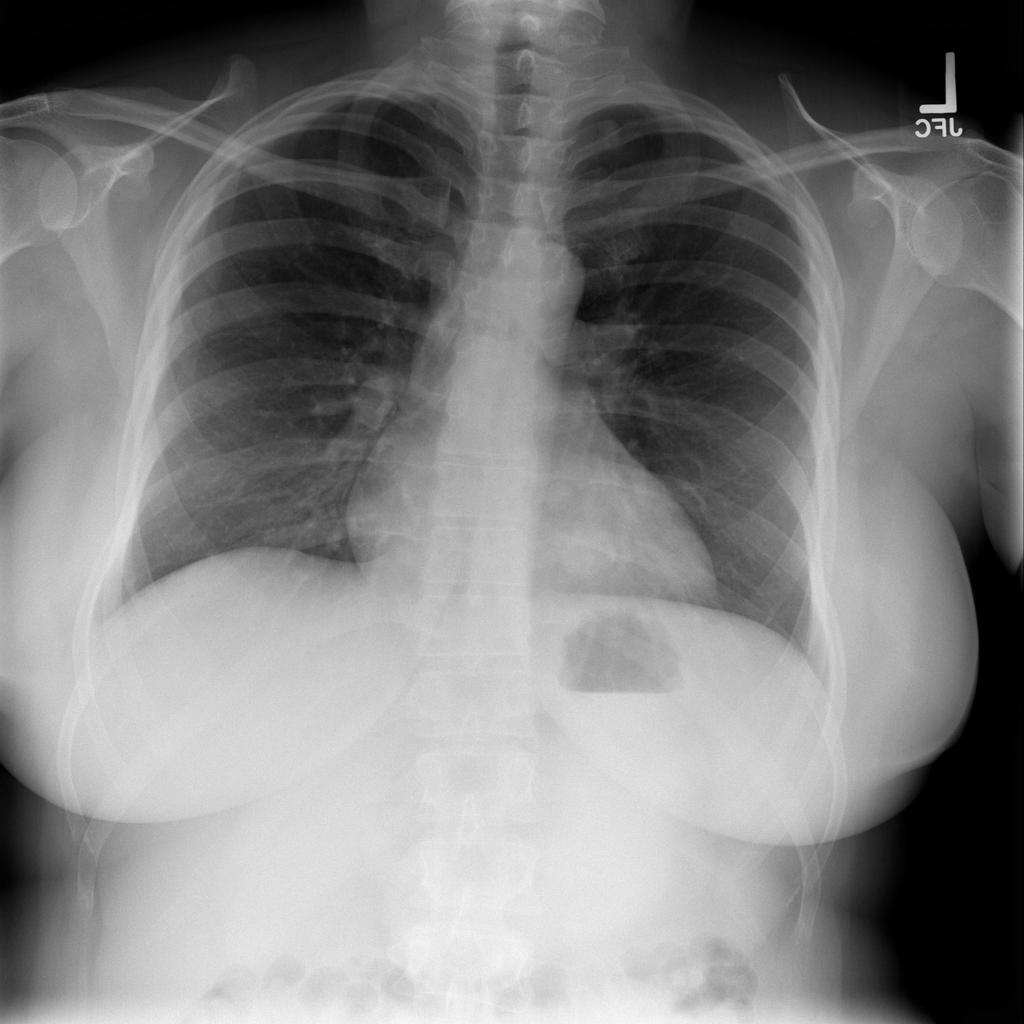nodule: (545, 514, 627, 590)
